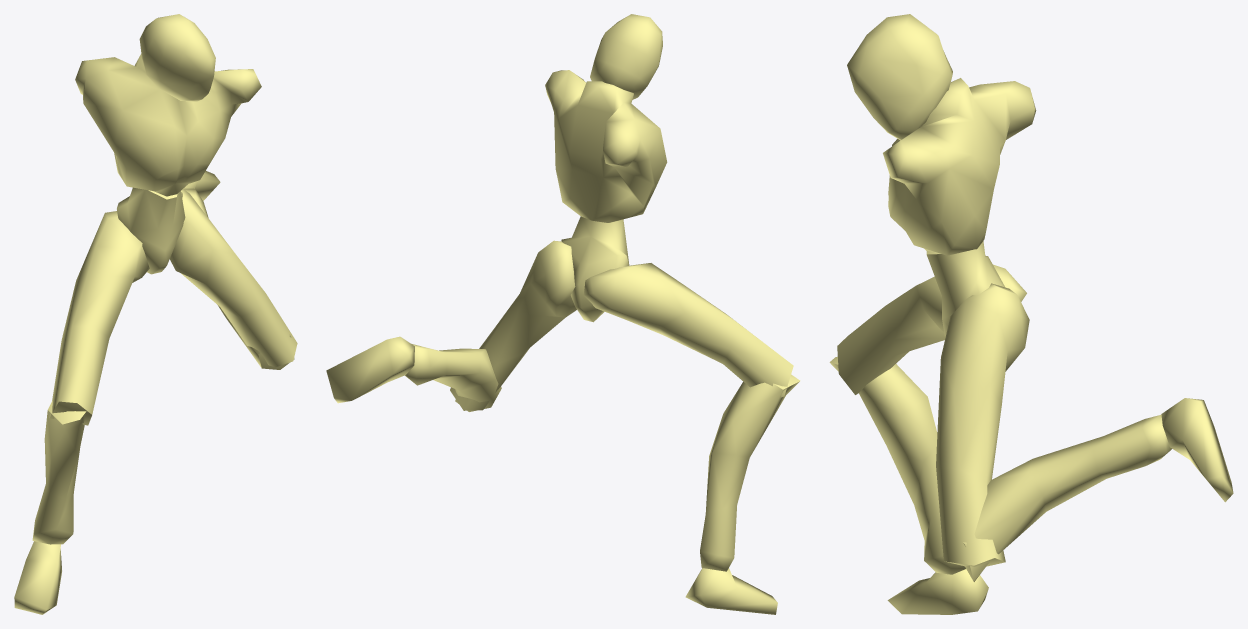
File: filth13.obj
3 renders of one model, left to right at view 1: azimuth 30°, elevation 25°; view 2: azimuth 150°, elevation 25°; view 3: azimuth 270°, elevation 25°, orthographic. The views are drawn at different scales.
Visible parts, largest first — view 1: Melee_Husk; view 2: Melee_Husk; view 3: Melee_Husk.
Part boxes in pixels (x1,y1,x2,y2): Melee_Husk: [14, 14, 297, 614]; Melee_Husk: [326, 14, 800, 614]; Melee_Husk: [829, 14, 1233, 614].
Bounding box in the file's own units: 43.35 × 71.14 × 39.19.
